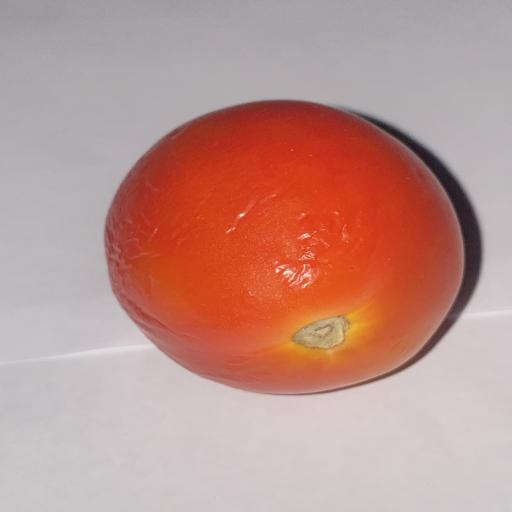spoiled: (105, 101, 463, 393)
